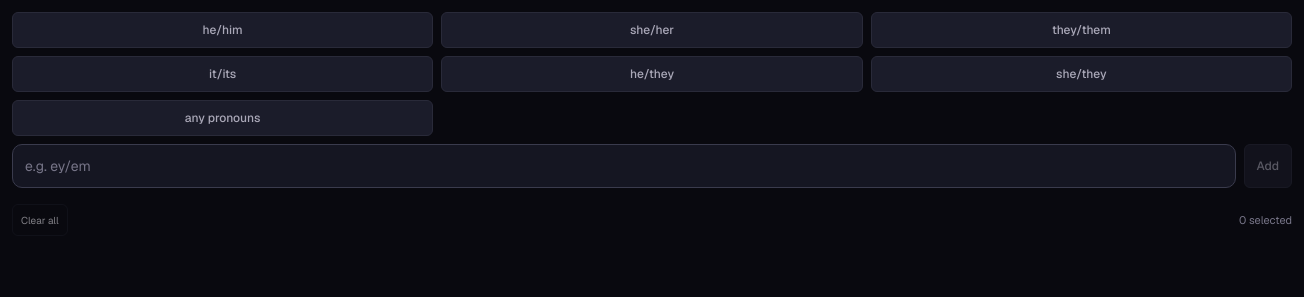
Test: PronounsPicker › serializes custom pronouns joined with comma
In the field with placeholder "e.g. ey/em": (624, 166) x1=12 y1=144 x2=1236 y2=188, type "ey/em"
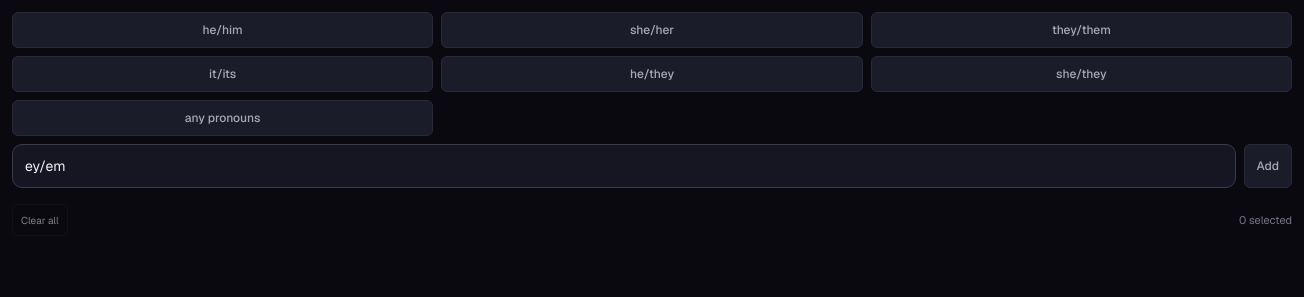
Press Enter in the field with placeholder "e.g. ey/em", box x1=12 y1=144 x2=1236 y2=188
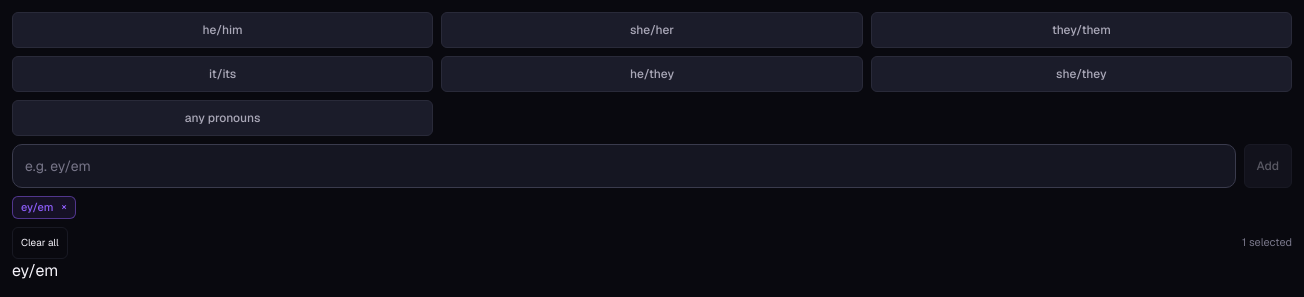
In the field with placeholder "e.g. ey/em": (624, 166) x1=12 y1=144 x2=1236 y2=188, type "ne/nem"
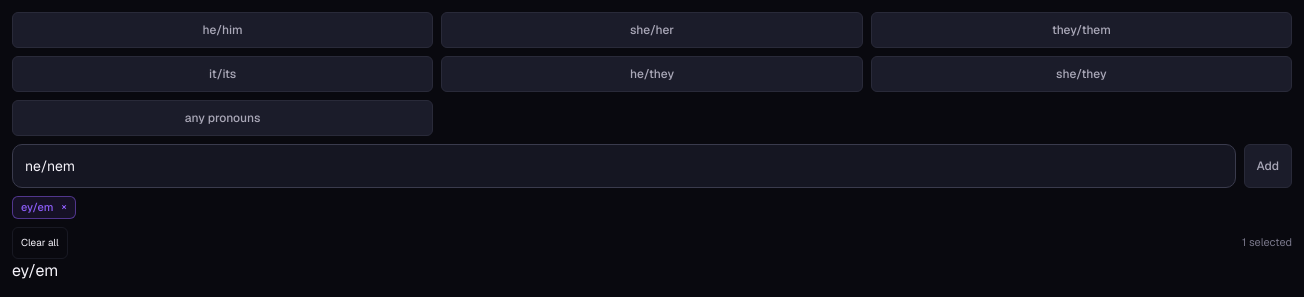
Press Enter in the field with placeholder "e.g. ey/em", box x1=12 y1=144 x2=1236 y2=188
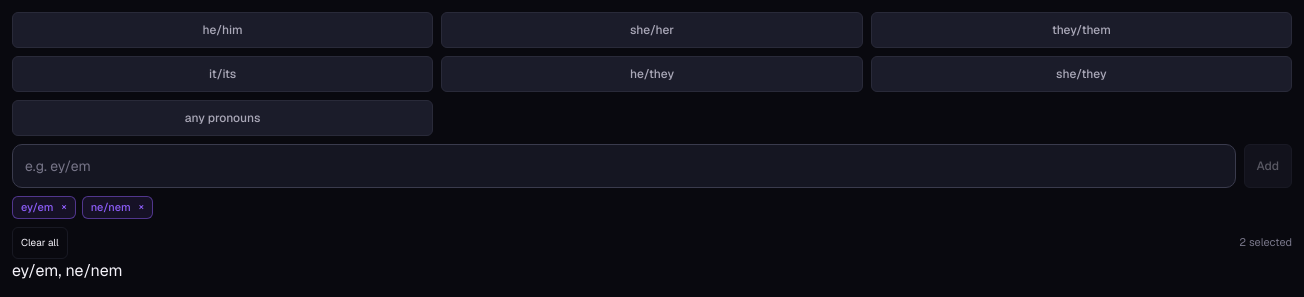
expect the text with test id "serialized" reads "ey/em, ne/nem": met, box x1=12 y1=260 x2=122 y2=280
